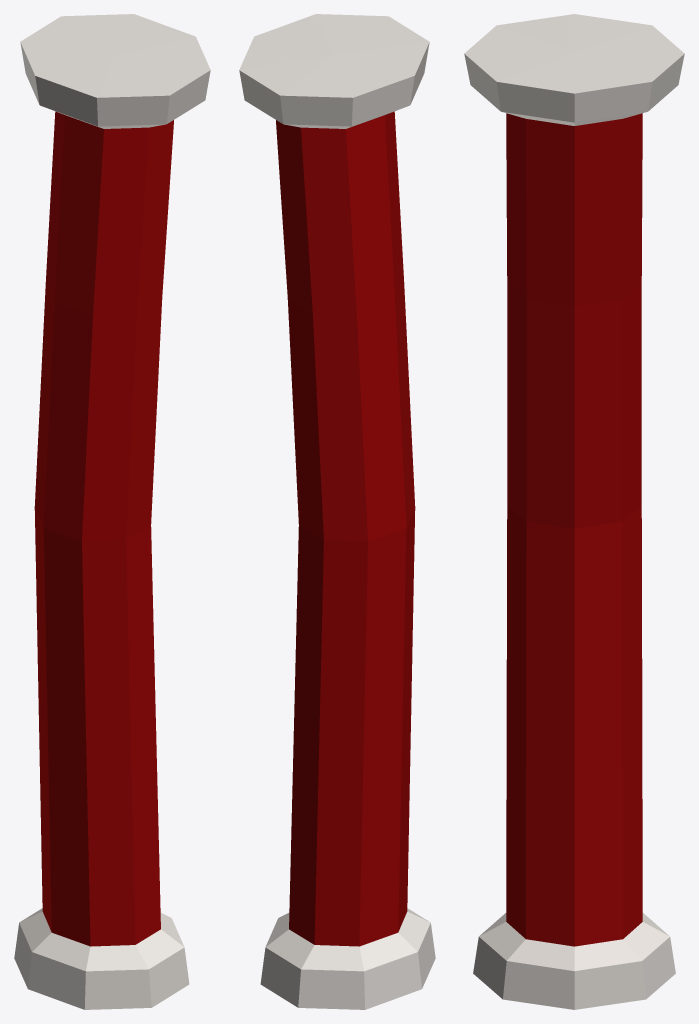
Rendered from Column.fbx.
3 renders of one model, left to right at view 1: azimuth 30°, elevation 25°; view 2: azimuth 150°, elevation 25°; view 3: azimuth 270°, elevation 25°, orthographic.
Parts seen in each view (by area): view 1: columnNode; view 2: columnNode; view 3: columnNode.
Boxes of the visible parts, box(x1,y1,x2,y2) form: columnNode: box(14, 14, 210, 1009); columnNode: box(239, 14, 435, 1009); columnNode: box(464, 14, 684, 1009).
Bounding box in the file's own units: 1.05 × 5.46 × 1.18.
